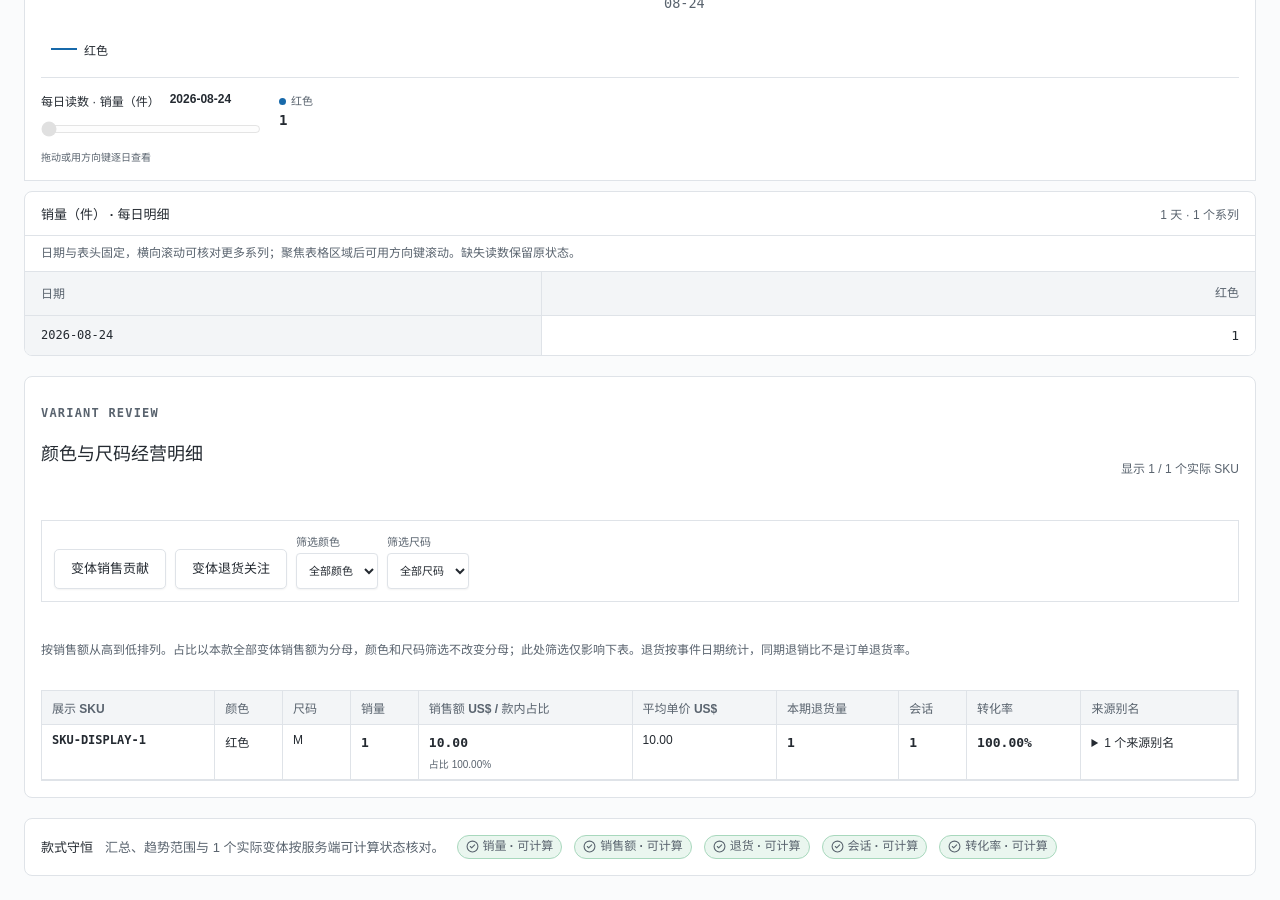
it: ProductDetailPage › renders standard identity, same-response chart/matrix and actual variants
This screenshot has width=1280, height=900.
(page scrolled)
Check: the text "SKU-DISPLAY-1" is shown, box x1=52 y1=733 x2=146 y2=747
Click the heading "1 个来源别名" at (1139, 743), box x1=1104 y1=736 x2=1174 y2=750
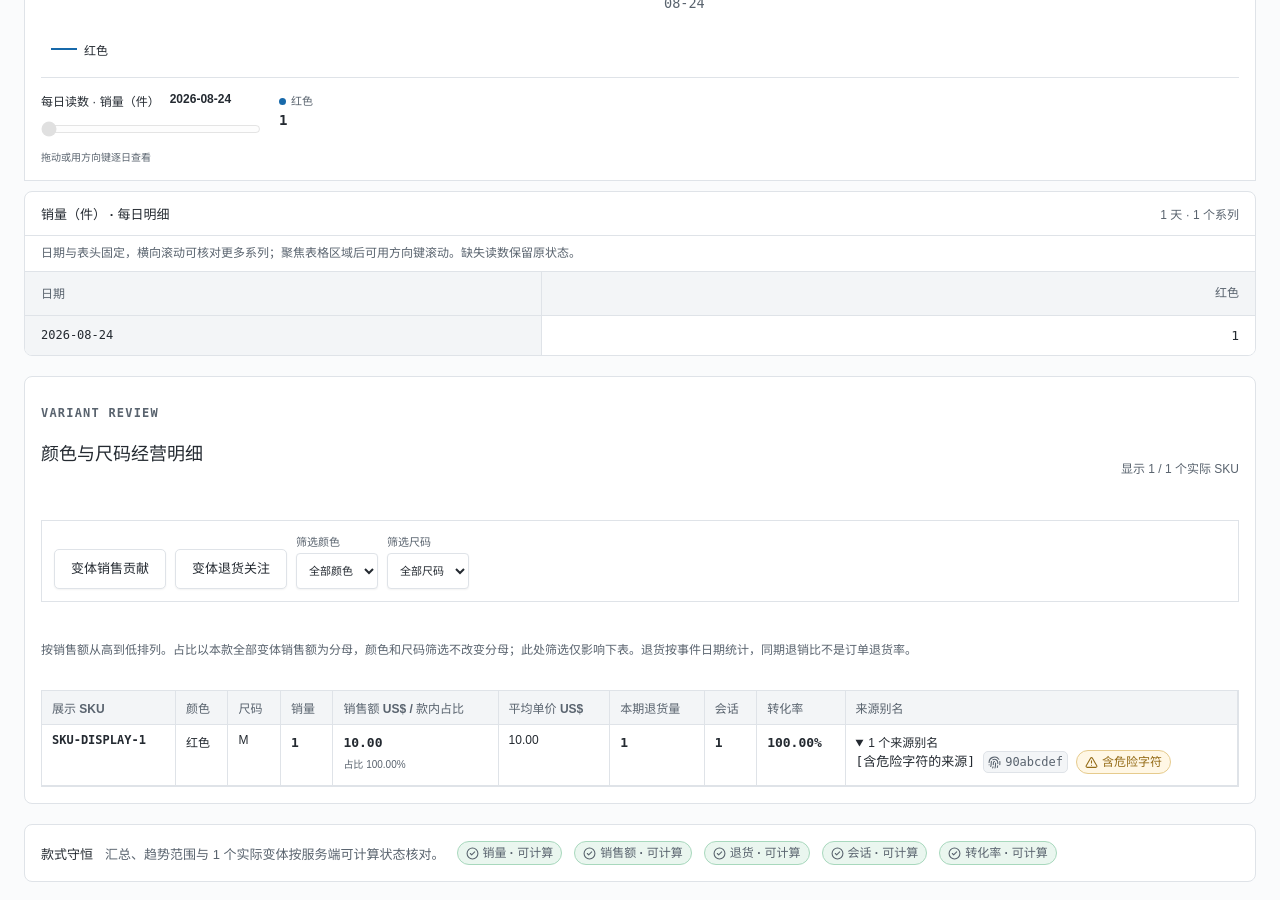
Check: the text "[含危险字符的来源]" is shown, box x1=856 y1=752 x2=975 y2=772
